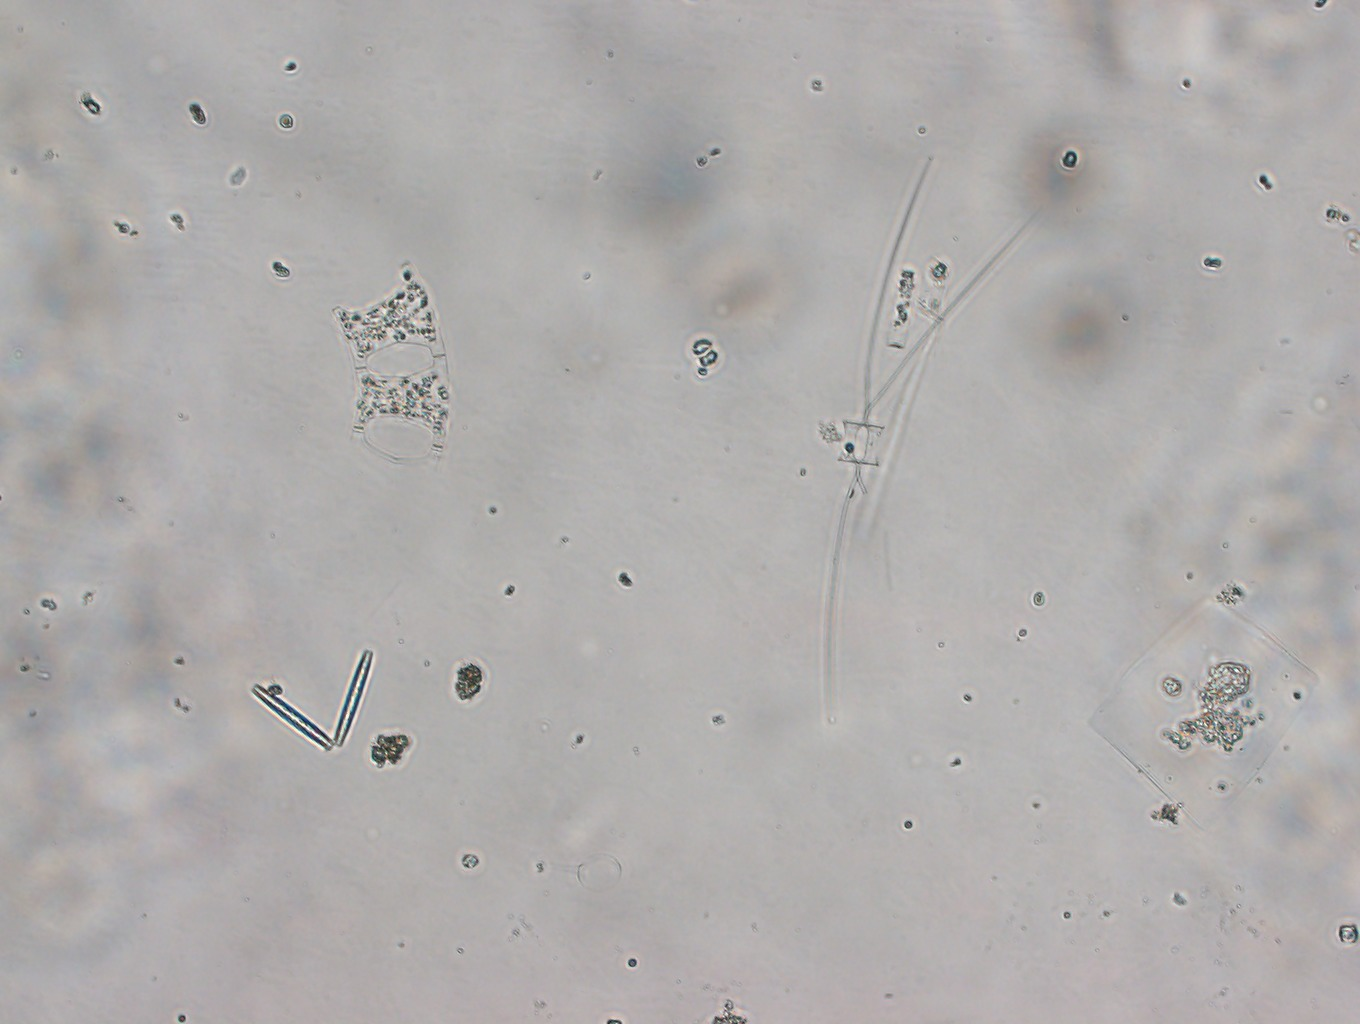chaetoceros: (806, 137, 1036, 728)
eucampia: (316, 257, 463, 474)
helicotheca: (1075, 586, 1325, 834)
thalassionema nitzschioides: (245, 642, 373, 756)
